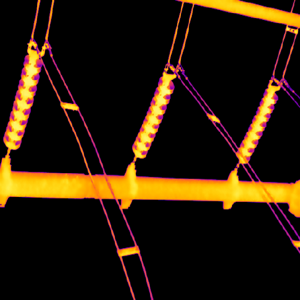insulator: (129, 70, 176, 156), (2, 51, 40, 149), (234, 84, 279, 162)
